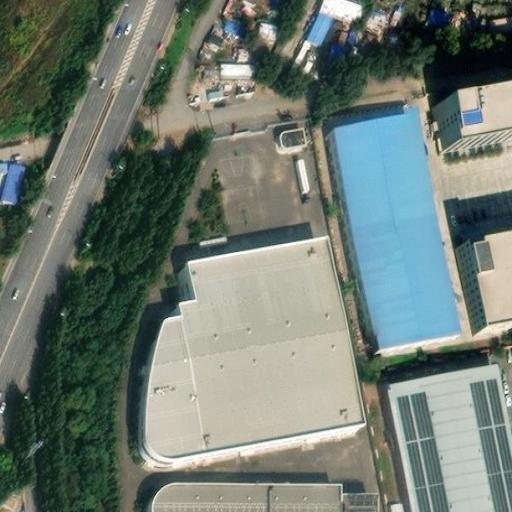building: (145, 231, 364, 453), (333, 108, 462, 350), (387, 364, 512, 512), (134, 476, 362, 512), (455, 233, 512, 329), (429, 88, 512, 151), (312, 0, 360, 37), (240, 14, 280, 56), (335, 21, 368, 67), (384, 0, 418, 42), (291, 36, 320, 74), (365, 5, 389, 45), (420, 7, 445, 44), (273, 123, 306, 150), (223, 55, 261, 74), (202, 25, 227, 50), (488, 15, 512, 34), (389, 492, 411, 512), (203, 56, 223, 74)
